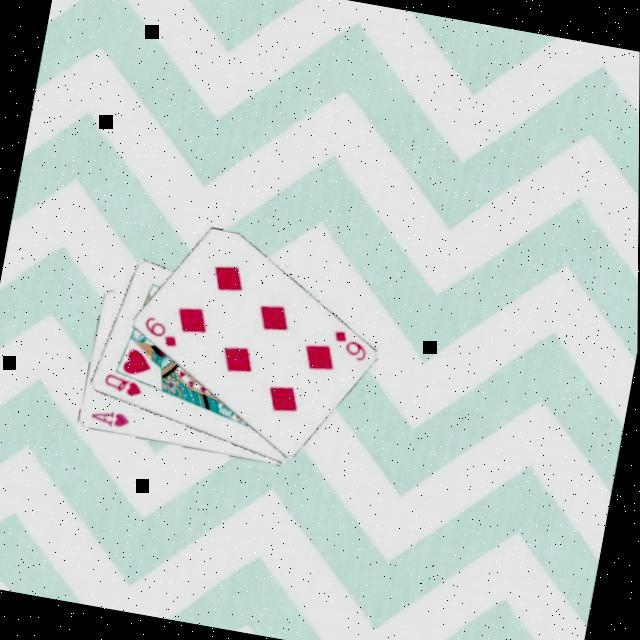6D: (139, 313, 186, 353), (328, 327, 375, 367)
AH: (88, 406, 135, 434)
QH: (100, 372, 148, 403)
